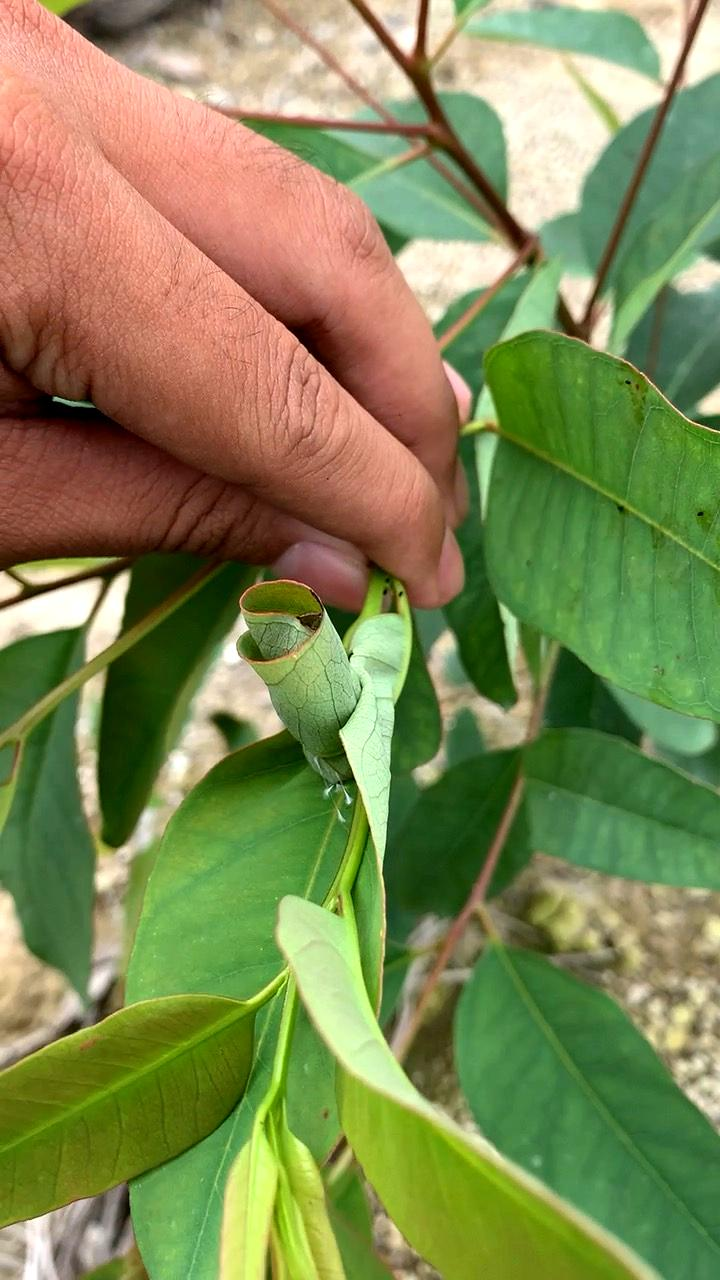Leaf Roller - Leaf: (213, 558, 397, 864)
